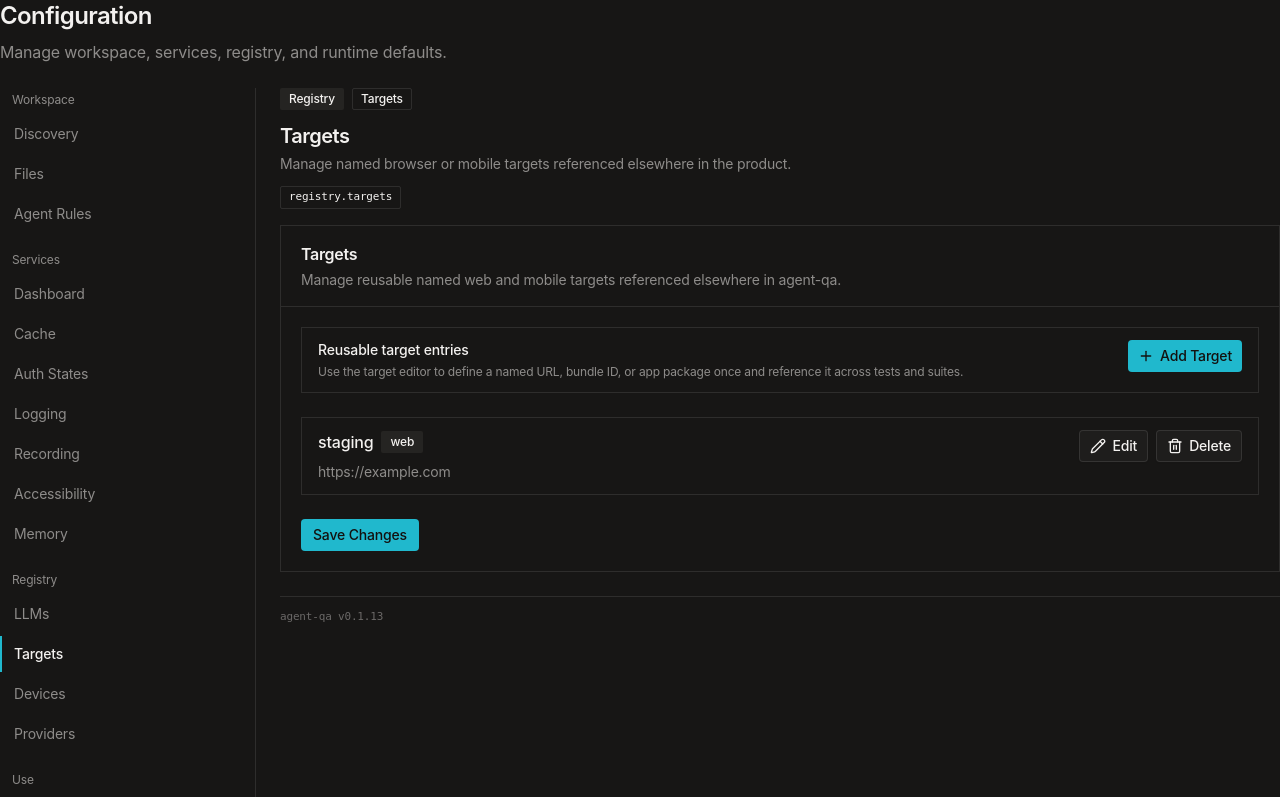
Scenario: ConfigPage schema-driven shell › uses an approved SaaS slug for the target product placeholder
This screenshot has width=1280, height=797.
What coordinates should you click on to do the following:
click the button "Add Target"
I would click on:
 (1185, 356)
Its box is top-left (1128, 340), bottom-right (1242, 372).
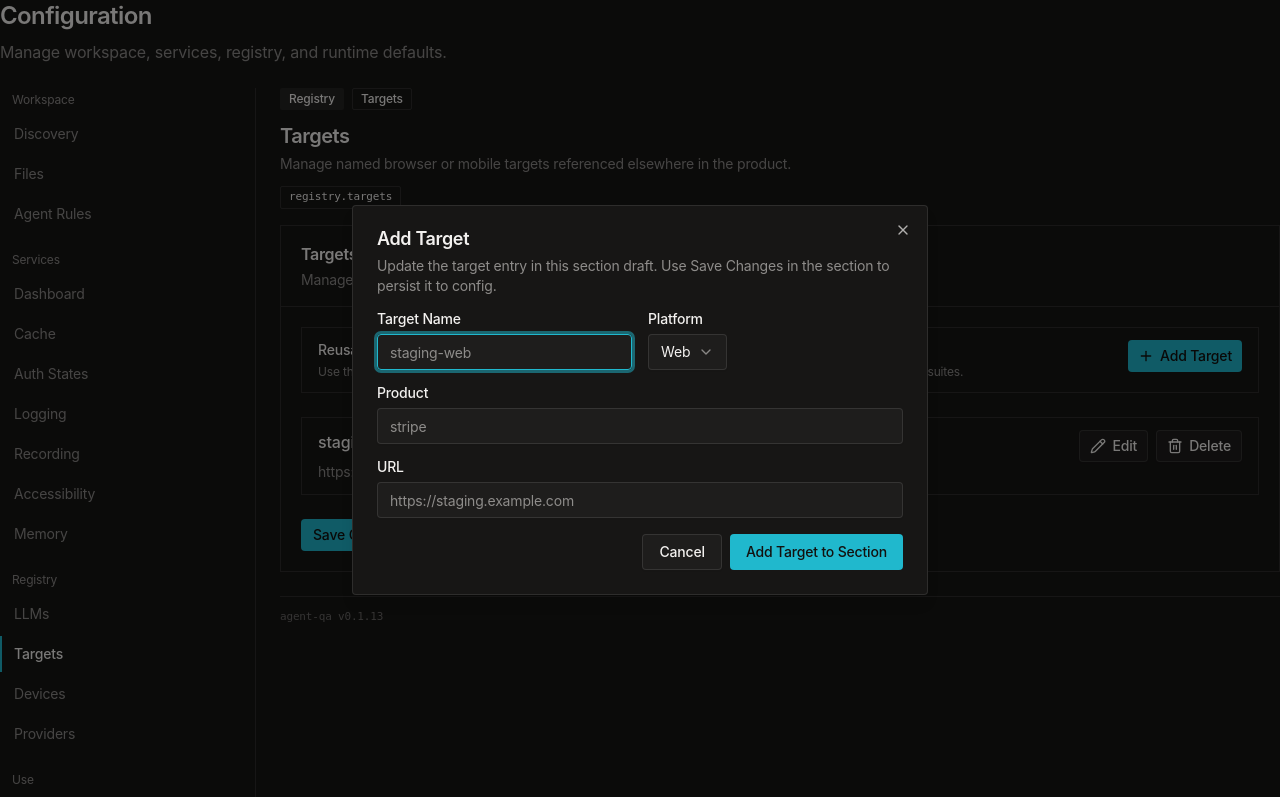
Now the field with id "target-product" is shown, box top-left (377, 408), bottom-right (903, 444)
